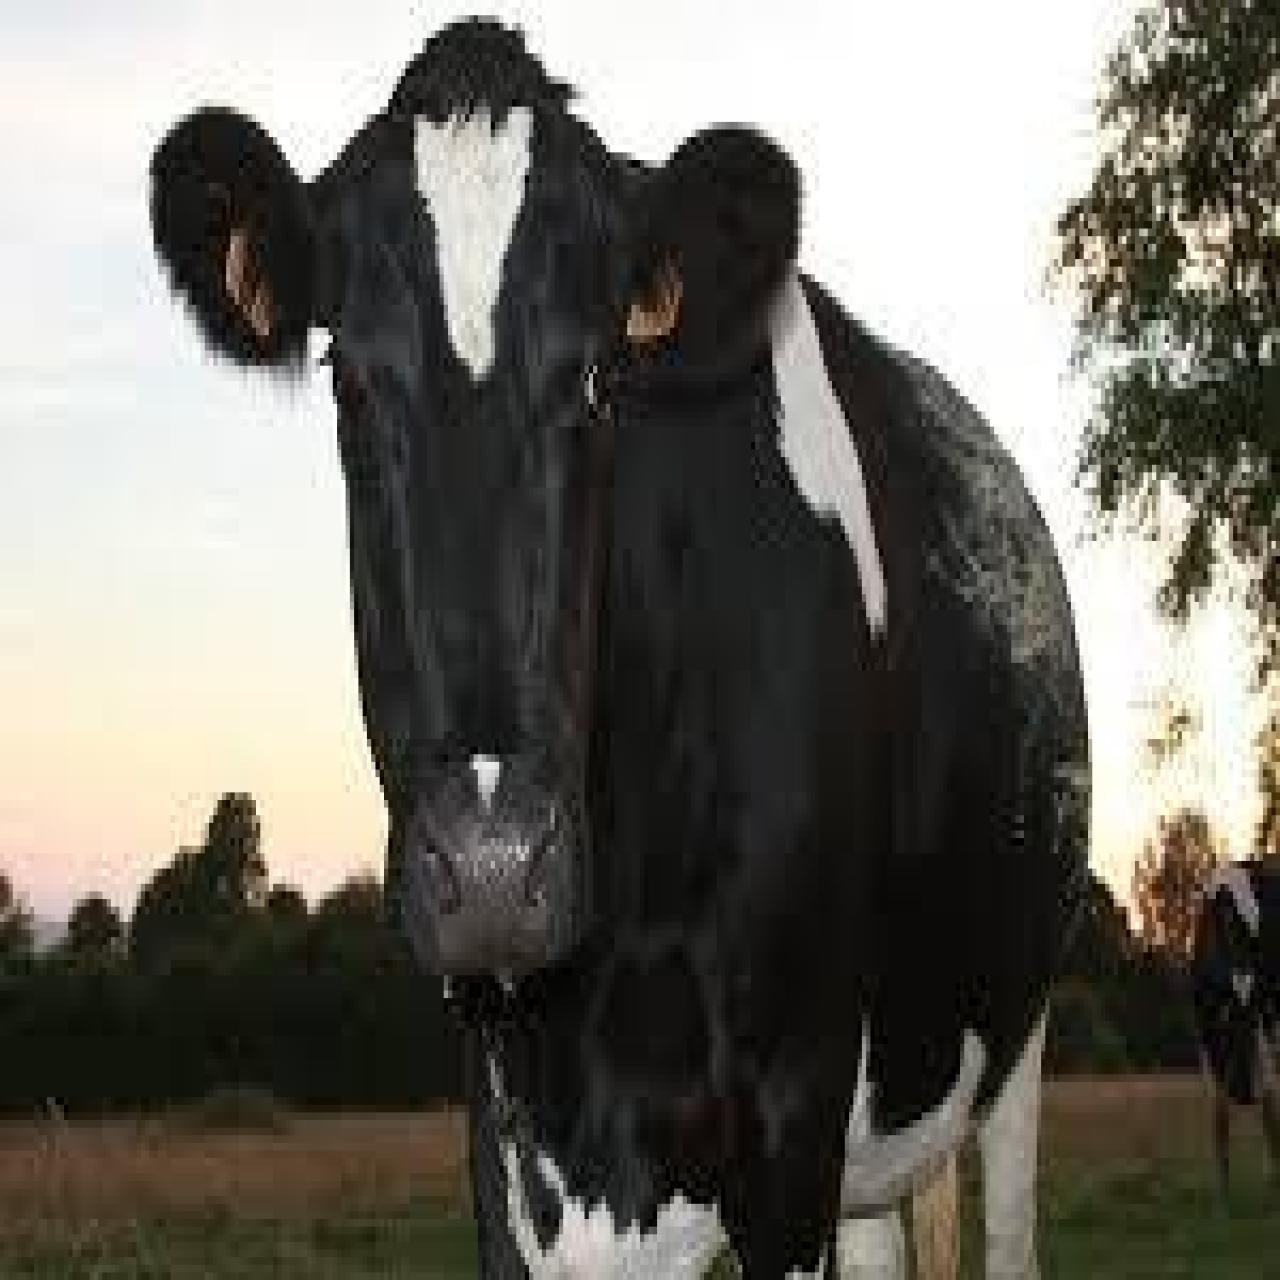cow: (148, 30, 1095, 1280)
